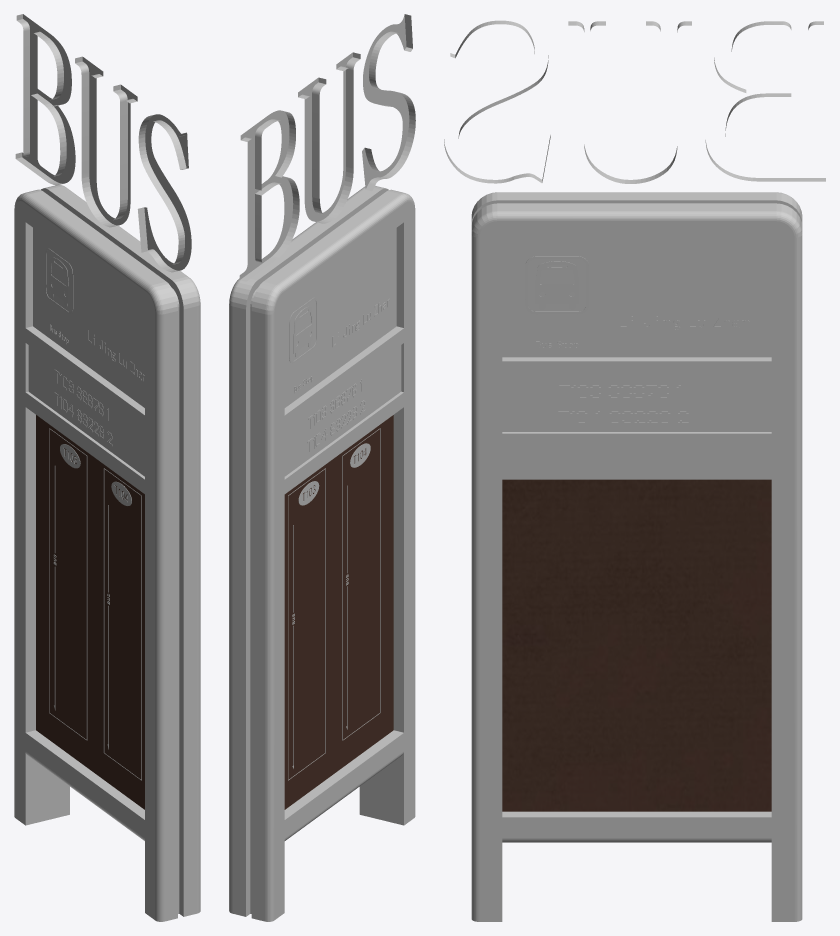
File: 公交车站.gltf
3 views of the same model, side by side, from view 1: azimuth 30°, elevation 25°; view 2: azimuth 150°, elevation 25°; view 3: azimuth 270°, elevation 25° (orthographic). The views are drawn at different scales.
Visible parts, largest first — view 1: node_Obj3d66-553228-1-69_-48510, node_Obj3d66-553228-4-855_-48546, node_Text001_-48558, node_Obj3d66-553228-2-507_-48532, node_Obj3d66-553228-12-160_-48516, node_Obj3d66-553228-13-599_-48518, node_Obj3d66-553228-5-490_-48548, node_Obj3d66-553228-21-326_-48536, node_Obj3d66-553228-8-130_-48554, node_Obj3d66-553228-17-248_-48526, node_Obj3d66-553228-16-536_-48524; view 2: node_Obj3d66-553228-1-69_-48510, node_Obj3d66-553228-4-855_-48546, node_Text001_-48558, node_Obj3d66-553228-2-507_-48532, node_Obj3d66-553228-12-160_-48516, node_Obj3d66-553228-13-599_-48518, node_Obj3d66-553228-5-490_-48548, node_Obj3d66-553228-21-326_-48536, node_Obj3d66-553228-17-248_-48526, node_Obj3d66-553228-16-536_-48524; view 3: node_Obj3d66-553228-15-140_-48522, node_Obj3d66-553228-1-69_-48510, node_Obj3d66-553228-2-507_-48532, node_Obj3d66-553228-13-599_-48518, node_Obj3d66-553228-12-160_-48516, node_Obj3d66-553228-20-465_-48534, node_Text001_-48558, node_Obj3d66-553228-23-799_-48540, node_Obj3d66-553228-19-790_-48530, node_Obj3d66-553228-18-619_-48528.
Boxes of the visible parts, bbox=[...] form: node_Obj3d66-553228-1-69_-48510: bbox=[14, 185, 200, 921]; node_Obj3d66-553228-4-855_-48546: bbox=[36, 415, 144, 809]; node_Text001_-48558: bbox=[15, 14, 191, 272]; node_Obj3d66-553228-2-507_-48532: bbox=[33, 228, 144, 407]; node_Obj3d66-553228-12-160_-48516: bbox=[17, 322, 153, 500]; node_Obj3d66-553228-13-599_-48518: bbox=[28, 345, 144, 476]; node_Obj3d66-553228-5-490_-48548: bbox=[49, 428, 141, 780]; node_Obj3d66-553228-21-326_-48536: bbox=[44, 248, 73, 314]; node_Obj3d66-553228-8-130_-48554: bbox=[54, 466, 55, 710]; node_Obj3d66-553228-17-248_-48526: bbox=[54, 392, 112, 445]; node_Obj3d66-553228-16-536_-48524: bbox=[54, 369, 108, 420]; node_Obj3d66-553228-1-69_-48510: bbox=[229, 185, 415, 921]; node_Obj3d66-553228-4-855_-48546: bbox=[284, 415, 393, 809]; node_Text001_-48558: bbox=[239, 14, 415, 281]; node_Obj3d66-553228-2-507_-48532: bbox=[284, 228, 396, 407]; node_Obj3d66-553228-12-160_-48516: bbox=[276, 322, 412, 500]; node_Obj3d66-553228-13-599_-48518: bbox=[284, 345, 401, 476]; node_Obj3d66-553228-5-490_-48548: bbox=[288, 428, 380, 780]; node_Obj3d66-553228-21-326_-48536: bbox=[289, 297, 317, 363]; node_Obj3d66-553228-17-248_-48526: bbox=[307, 400, 365, 451]; node_Obj3d66-553228-16-536_-48524: bbox=[308, 379, 362, 428]; node_Obj3d66-553228-15-140_-48522: bbox=[502, 479, 771, 811]; node_Obj3d66-553228-1-69_-48510: bbox=[471, 192, 802, 921]; node_Obj3d66-553228-2-507_-48532: bbox=[502, 242, 771, 357]; node_Obj3d66-553228-13-599_-48518: bbox=[502, 378, 771, 431]; node_Obj3d66-553228-12-160_-48516: bbox=[502, 357, 771, 450]; node_Obj3d66-553228-20-465_-48534: bbox=[502, 450, 771, 479]; node_Text001_-48558: bbox=[444, 20, 825, 183]; node_Obj3d66-553228-23-799_-48540: bbox=[525, 256, 588, 314]; node_Obj3d66-553228-19-790_-48530: bbox=[558, 411, 688, 424]; node_Obj3d66-553228-18-619_-48528: bbox=[559, 385, 680, 398].
Bounding box in the file's own units: 0.15 × 2.56 × 0.9928.
